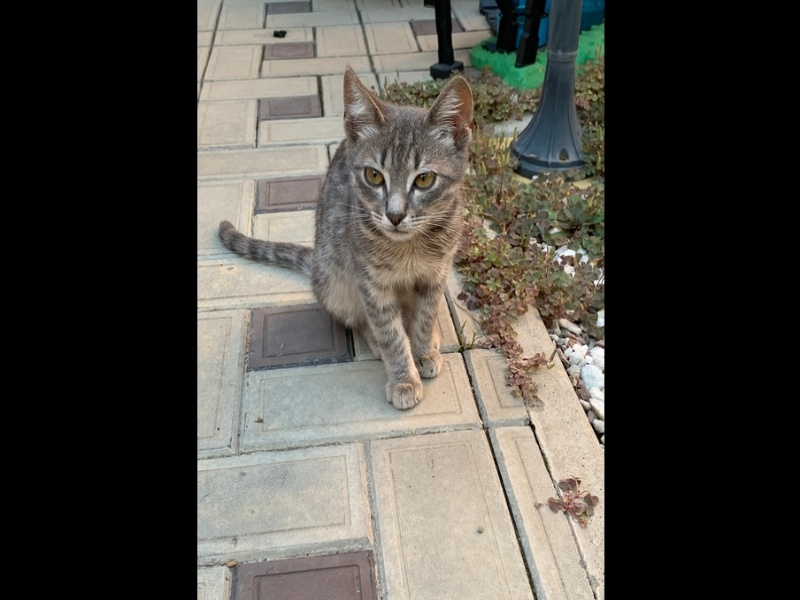cat: (215, 62, 481, 413)
